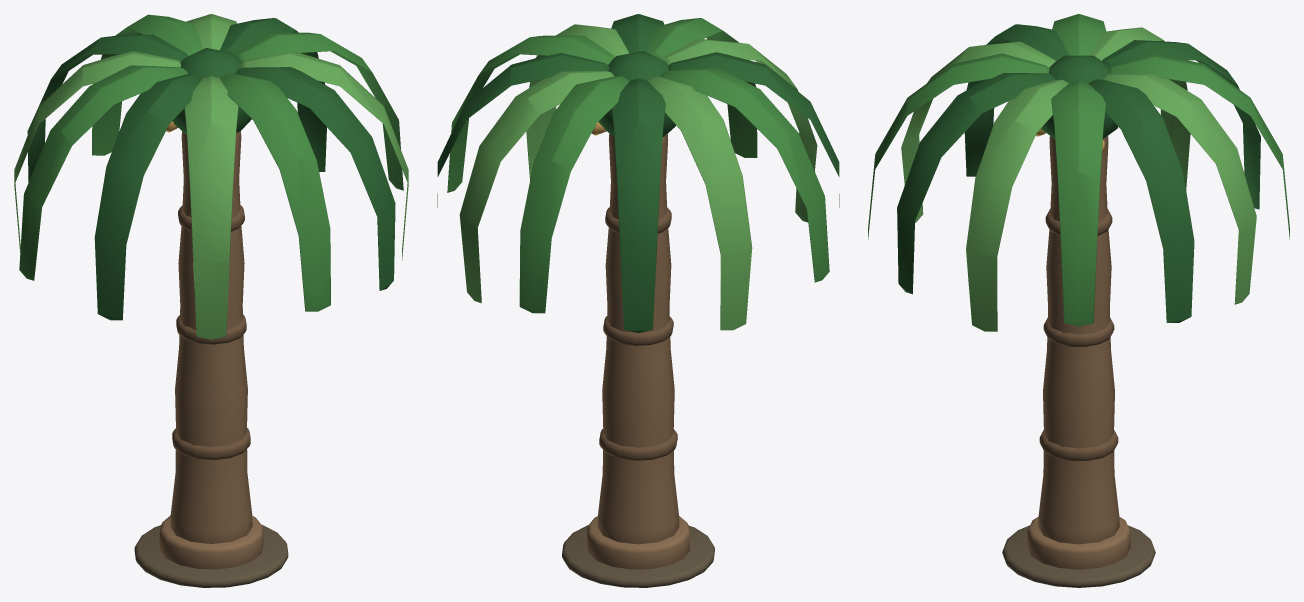
File: palm-tree.glb
3 views of the same model, side by side, from view 1: azimuth 30°, elevation 25°; view 2: azimuth 150°, elevation 25°; view 3: azimuth 270°, elevation 25° (orthographic).
Visible parts, largest first — view 1: palm crown, palm trunk, palm soil ring, palm root flare, palm crown hub, palm bark band, palm bark band.001; view 2: palm crown, palm trunk, palm soil ring, palm root flare, palm crown hub, palm bark band, palm bark band.001; view 3: palm crown, palm trunk, palm soil ring, palm root flare, palm crown hub, palm bark band, palm bark band.001.
Boxes of the visible parts, left/top/right/bottom form: palm crown: left=14, top=14, right=408, bottom=339; palm trunk: left=170, top=131, right=252, bottom=543; palm soil ring: left=134, top=524, right=288, bottom=587; palm root flare: left=159, top=515, right=263, bottom=569; palm crown hub: left=173, top=48, right=251, bottom=134; palm bark band: left=172, top=428, right=250, bottom=459; palm bark band.001: left=176, top=314, right=246, bottom=344; palm crown: left=437, top=14, right=839, bottom=332; palm trunk: left=597, top=133, right=679, bottom=544; palm soil ring: left=562, top=525, right=714, bottom=587; palm root flare: left=587, top=516, right=689, bottom=569; palm crown hub: left=598, top=51, right=675, bottom=137; palm bark band: left=599, top=429, right=677, bottom=460; palm bark band.001: left=603, top=316, right=673, bottom=345; palm crown: left=868, top=14, right=1289, bottom=331; palm trunk: left=1038, top=136, right=1119, bottom=544; palm soil ring: left=1002, top=525, right=1155, bottom=587; palm root flare: left=1027, top=516, right=1130, bottom=569; palm crown hub: left=1041, top=55, right=1117, bottom=138; palm bark band: left=1039, top=430, right=1118, bottom=460; palm bark band.001: left=1043, top=317, right=1114, bottom=346.
Bounding box in the file's own units: 4.08 × 5.34 × 4.08.
